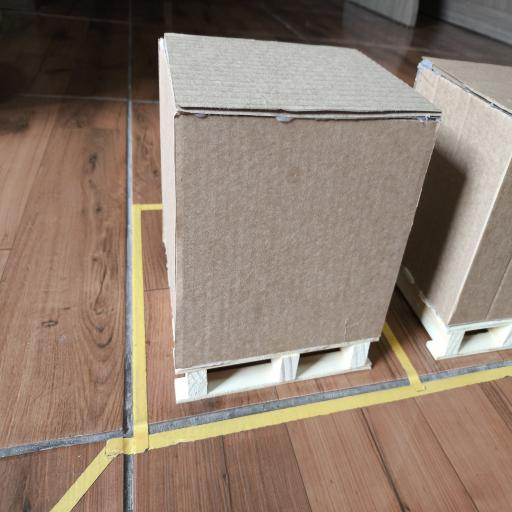pallet: (175, 341, 371, 403), (397, 267, 511, 360)
